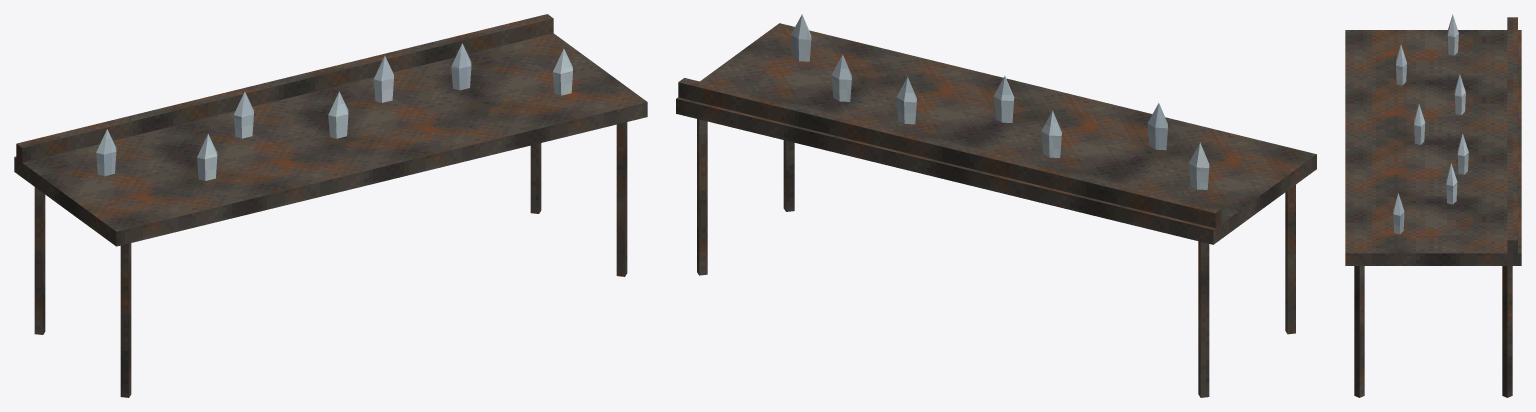
Rendered from mesa_conservera.obj.
3 renders of one model, left to right at view 1: azimuth 30°, elevation 25°; view 2: azimuth 150°, elevation 25°; view 3: azimuth 270°, elevation 25°, orthographic. The views are drawn at different scales.
Visible parts, largest first — view 1: mesa_conservera; view 2: mesa_conservera; view 3: mesa_conservera.
Part boxes in pixels (x1,y1,x2,y2): mesa_conservera: [14, 14, 647, 397]; mesa_conservera: [676, 14, 1316, 397]; mesa_conservera: [1345, 14, 1521, 397].
Size of the model in its own units: 3 by 1.18 by 1.
2 materials, 2 textured.
